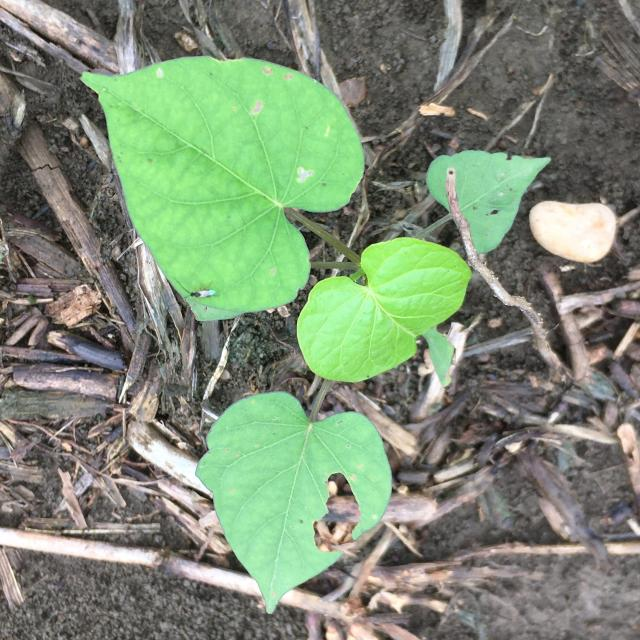MorningGlory: (80, 56, 551, 614)
